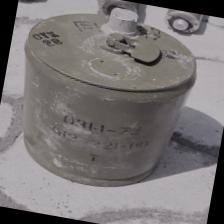OZM-72: (0, 0, 211, 190)
